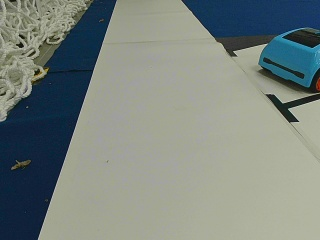car: (257, 26, 318, 91)
